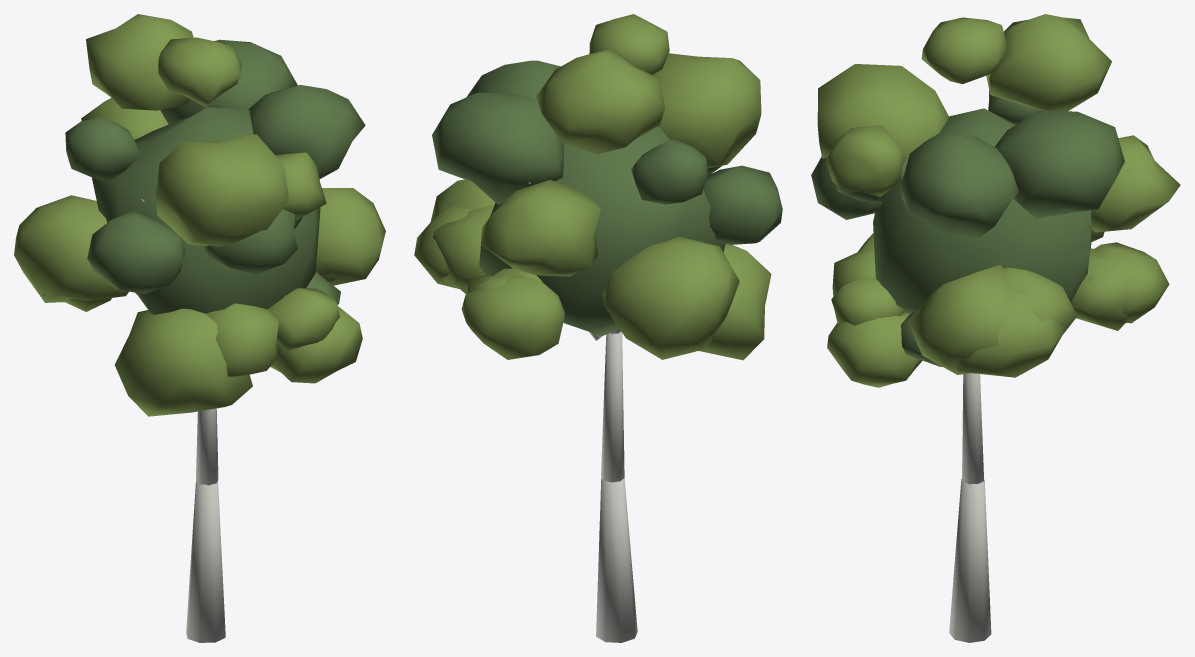
File: node_tree_aspen_0.glb
3 renders of one model, left to right at view 1: azimuth 30°, elevation 25°; view 2: azimuth 150°, elevation 25°; view 3: azimuth 270°, elevation 25°, orthographic. The views are drawn at different scales.
Visible parts, largest first — view 1: blob.023, blob.021, blob.012, blob.018, blob.002, blob.015, blob.011, blob.003, cyl, blob.001, blob.013, blob.020 (+7 smaller); view 2: blob.023, blob.018, blob.020, blob.015, blob.021, blob.006, blob.004, cyl, blob.011, blob.012, blob.005, blob.001 (+6 smaller); view 3: blob.023, blob.020, blob.002, blob.015, blob.021, blob.003, cyl, blob.010, blob.022, blob.006, blob.001, blob (+9 smaller).
Part boxes in pixels (x1,y1,x2,y2): blob.023: (92, 107, 320, 314); blob.021: (156, 134, 288, 246); blob.012: (114, 308, 252, 416); blob.018: (14, 195, 128, 302); blob.002: (248, 85, 365, 178); blob.015: (86, 14, 193, 110); blob.011: (87, 211, 184, 293); blob.003: (315, 188, 385, 285); cyl: (186, 481, 225, 642); blob.001: (158, 37, 241, 106); blob.013: (206, 303, 278, 376); blob.020: (160, 39, 297, 124); blob.023: (479, 126, 725, 336); blob.018: (602, 236, 739, 359); blob.020: (432, 91, 563, 204); blob.015: (536, 48, 665, 154); blob.021: (652, 53, 761, 168); blob.006: (481, 180, 600, 276); blob.004: (461, 273, 564, 359); cyl: (596, 478, 637, 642); blob.011: (703, 165, 782, 244); blob.012: (699, 244, 771, 360); blob.005: (631, 138, 707, 204); blob.001: (589, 14, 669, 74); blob.023: (873, 108, 1092, 313); blob.020: (995, 110, 1124, 218); blob.002: (901, 133, 1018, 237); blob.015: (986, 14, 1111, 111); blob.021: (817, 64, 948, 158); blob.003: (908, 265, 1009, 374); cyl: (949, 479, 991, 642); blob.010: (954, 289, 1066, 377); blob.022: (827, 312, 922, 387); blob.006: (1091, 135, 1180, 232); blob.001: (921, 17, 1006, 83); blob: (826, 125, 905, 196).
Bounding box in the file's own units: 4.79 × 8.56 × 4.72.
